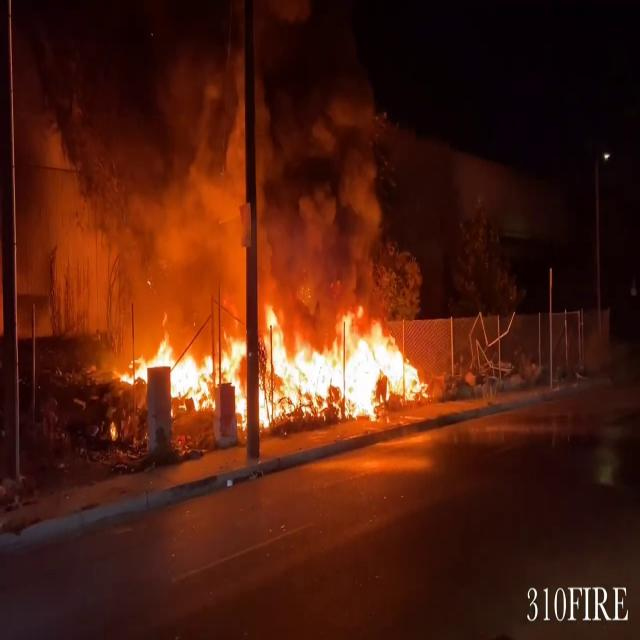Fire: (126, 295, 430, 426)
Smoke: (17, 4, 381, 308)
